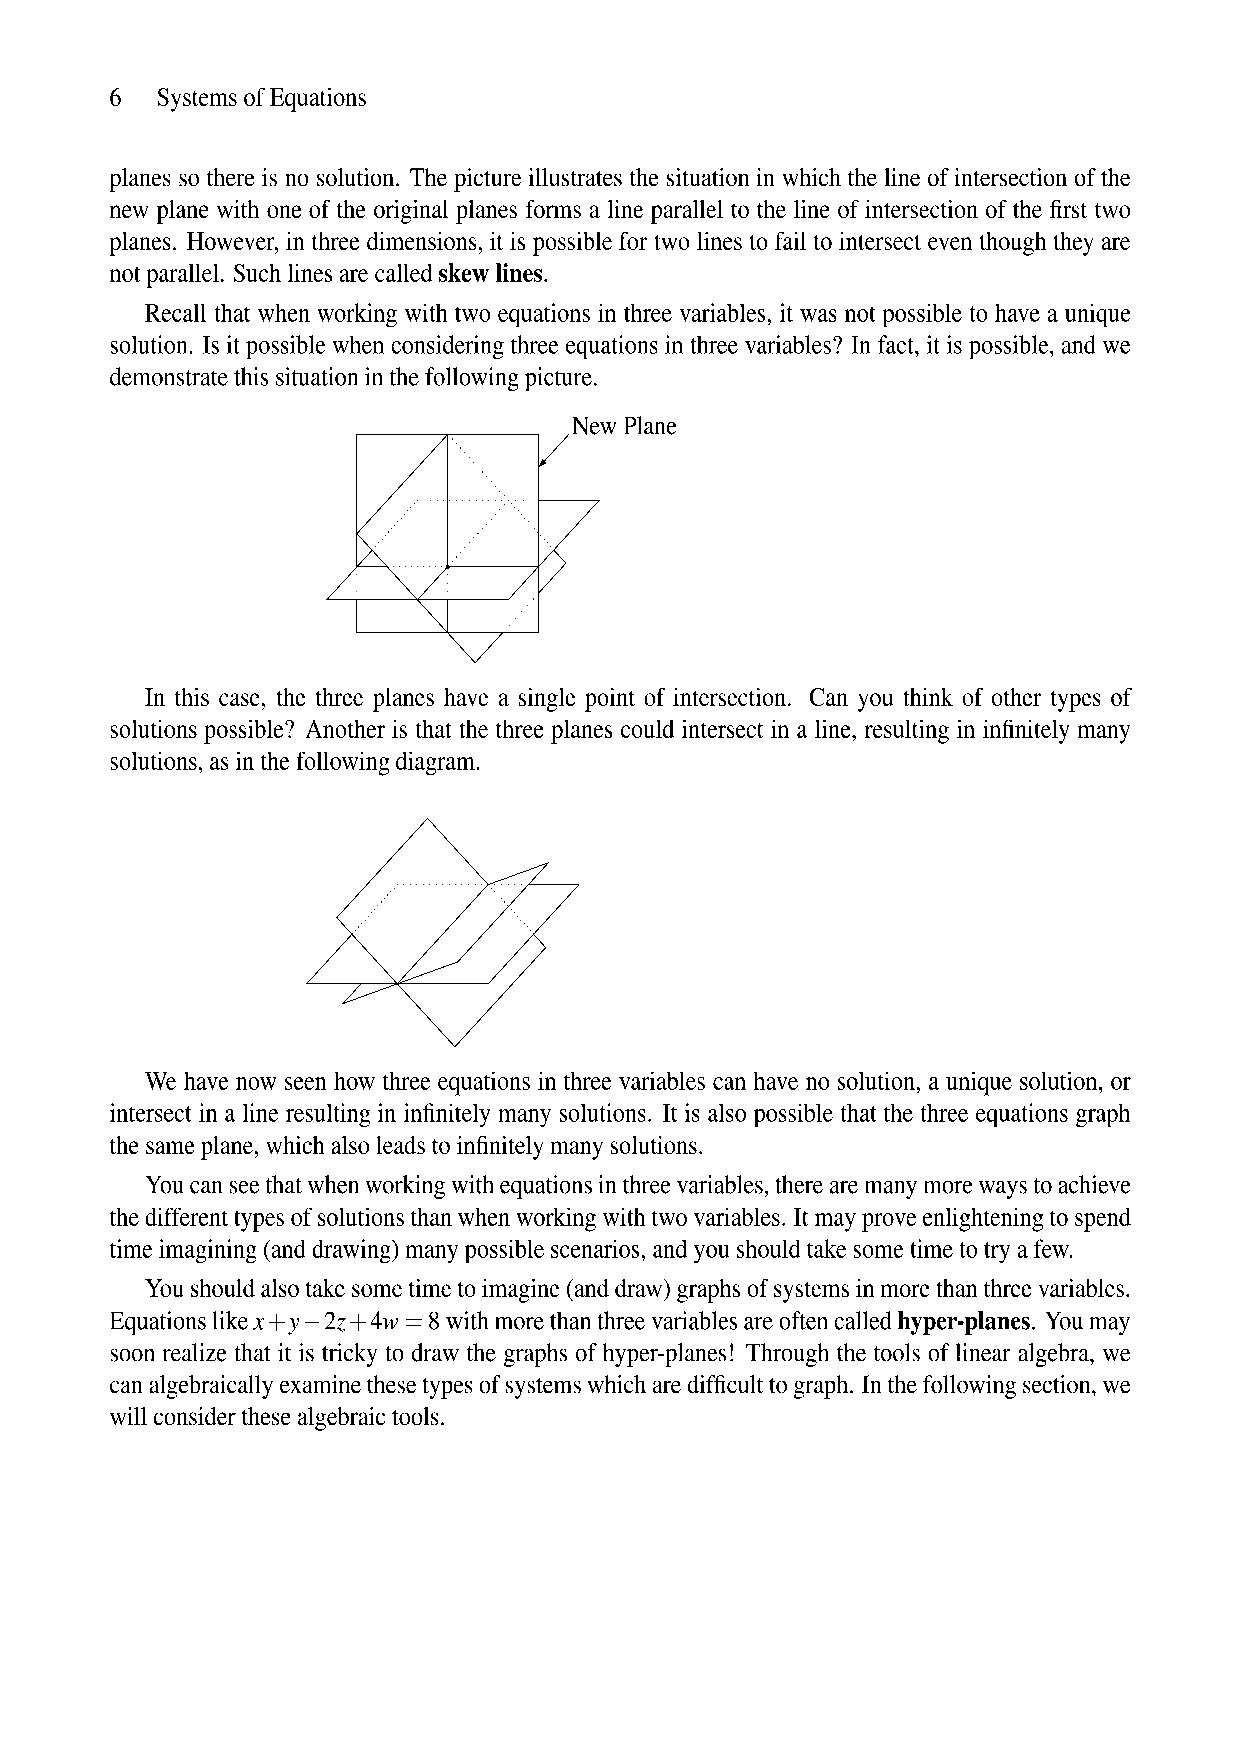content: (103, 160, 1137, 1431)
content_chapter: (153, 83, 369, 115)
content_pagenumber: (103, 78, 125, 114)
